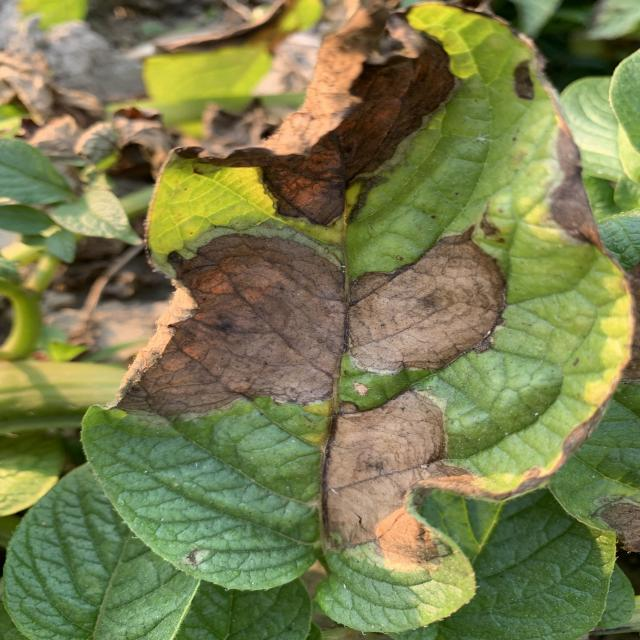lateblight: (222, 36, 455, 225), (118, 235, 345, 415), (338, 234, 505, 410), (325, 390, 465, 570), (560, 79, 640, 270)
